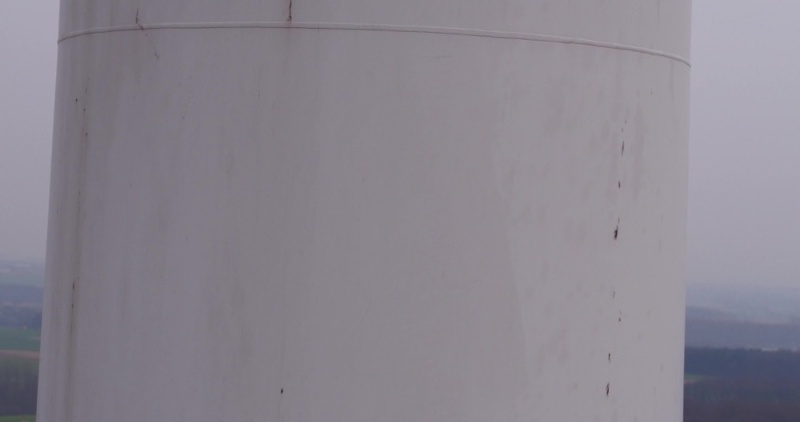weldseam: (56, 18, 694, 71)
